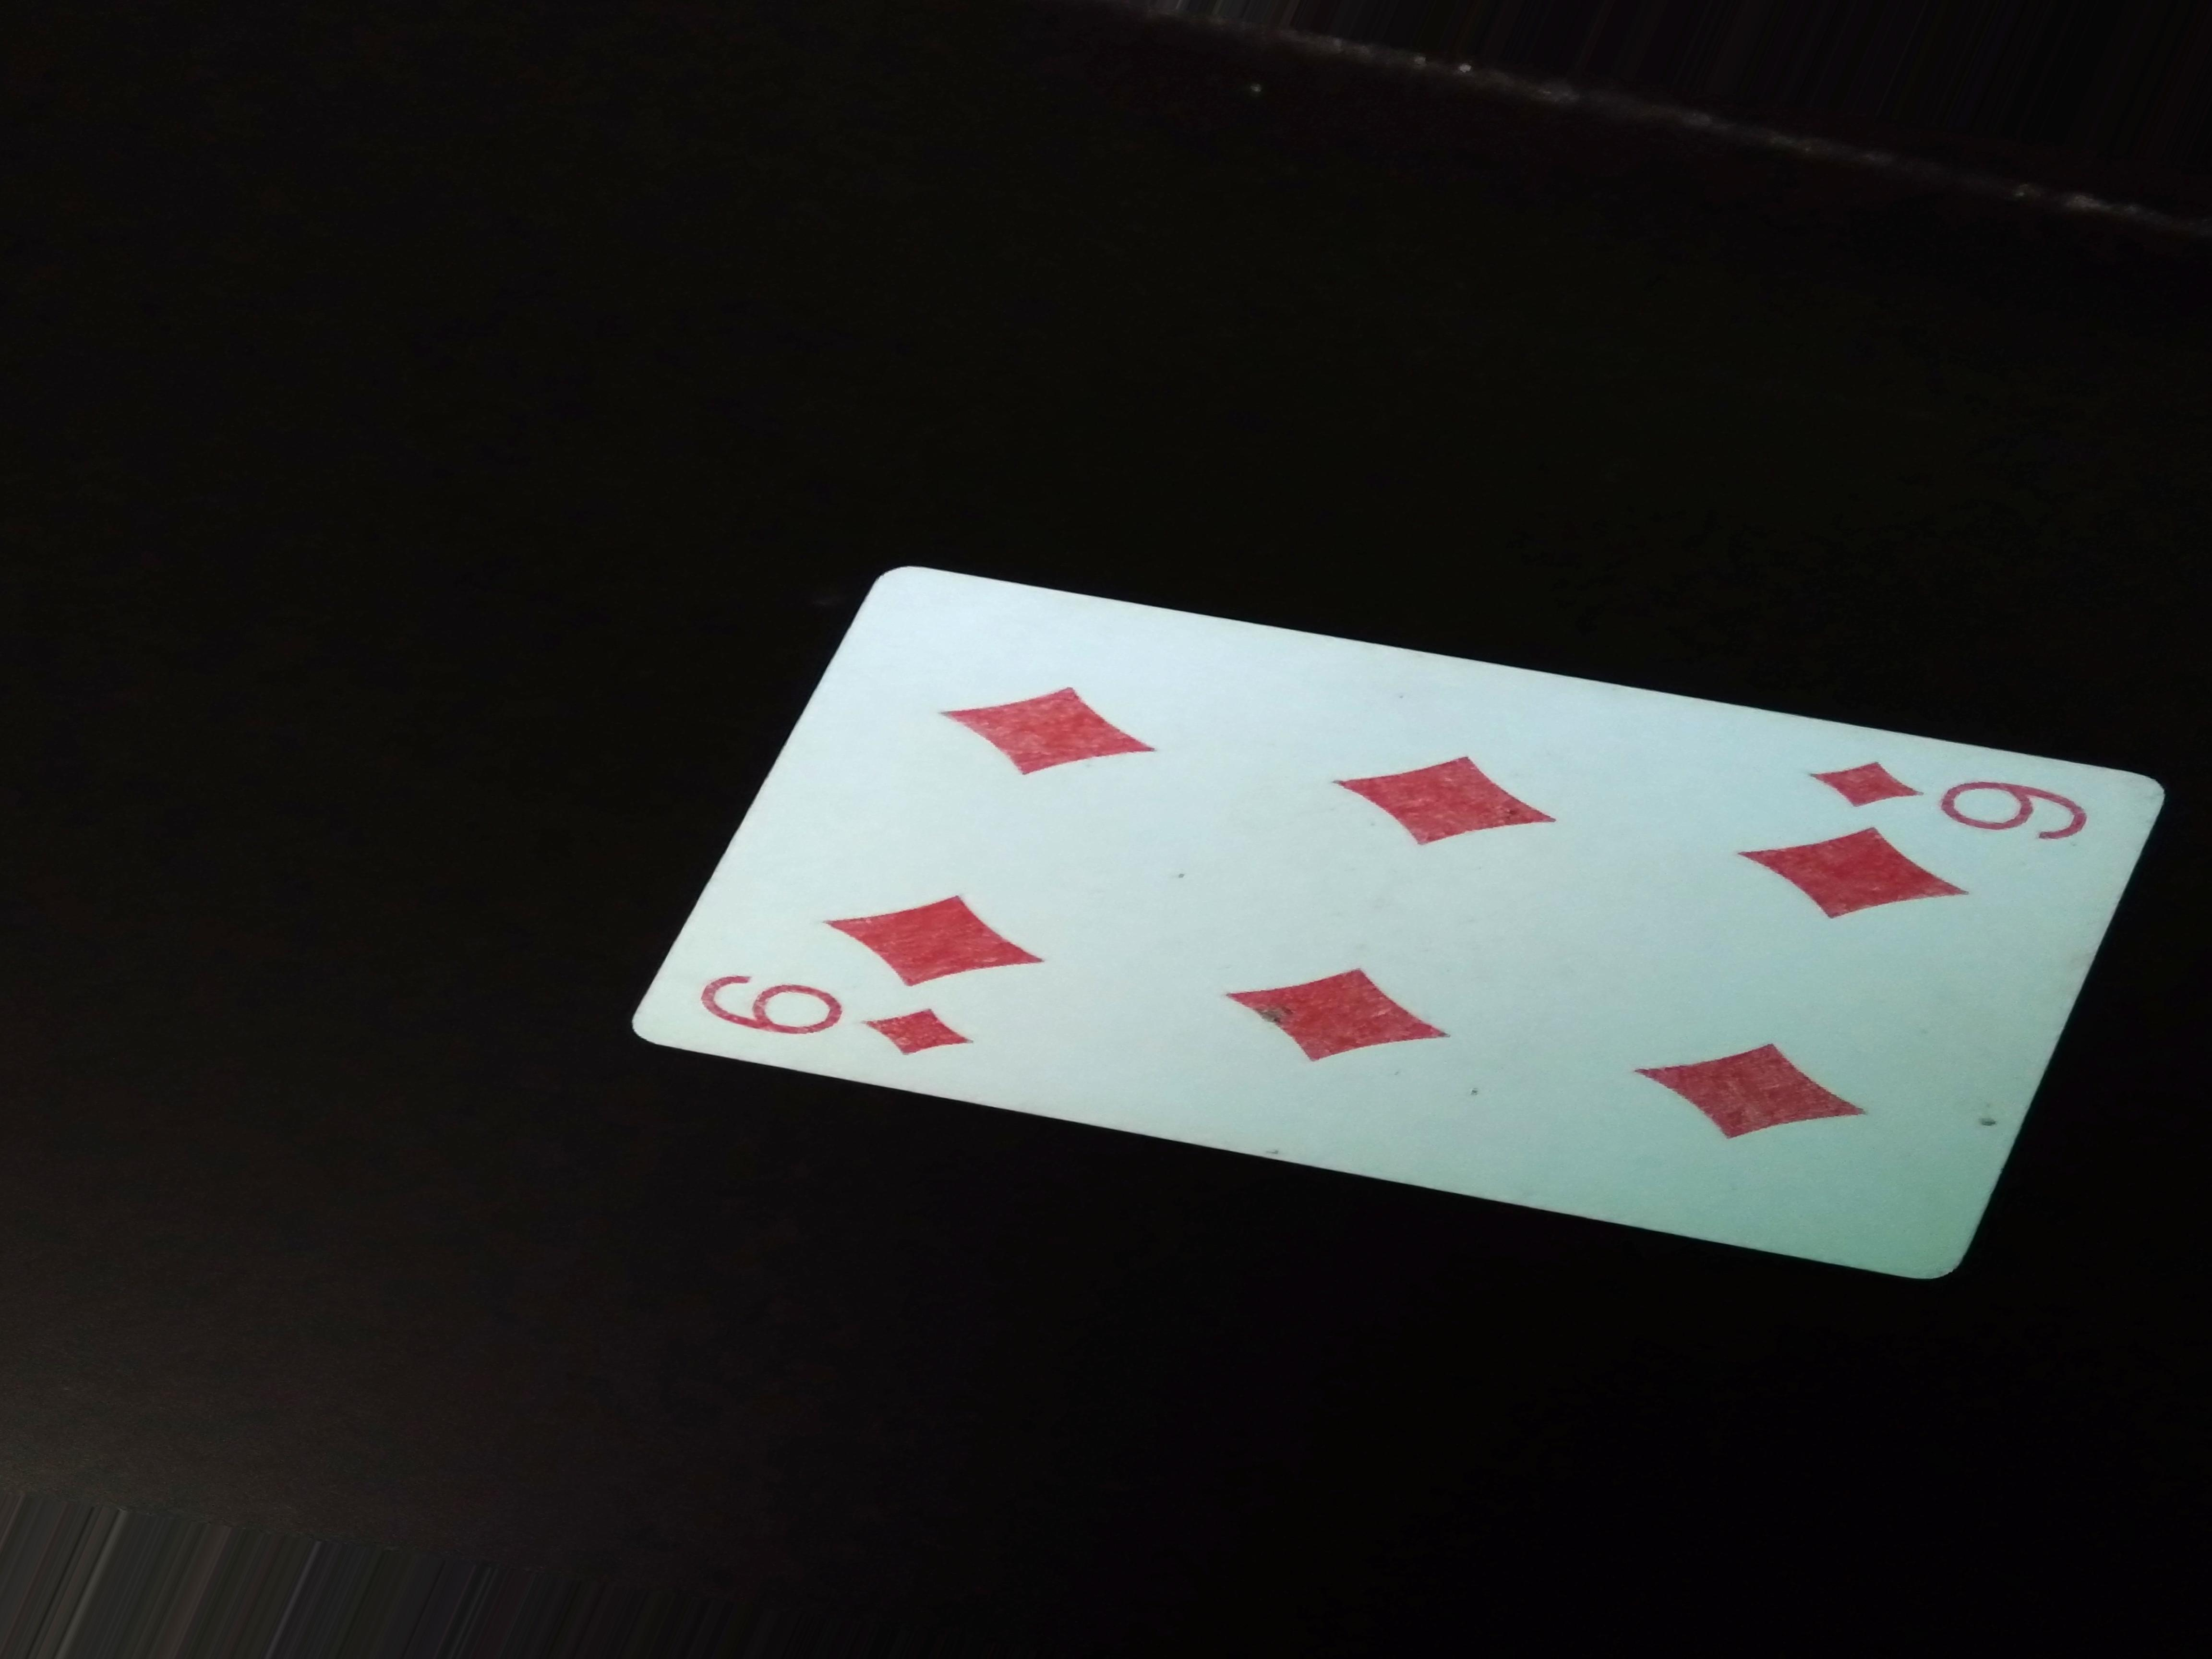6D: (678, 950, 1005, 1068)
